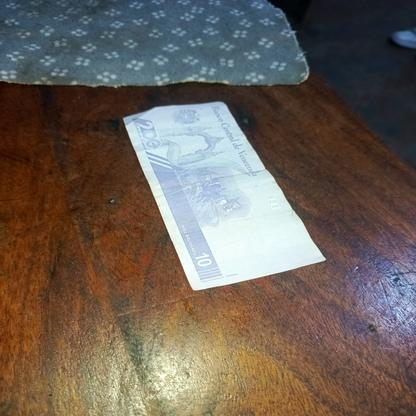vef_back: (114, 101, 326, 292)
